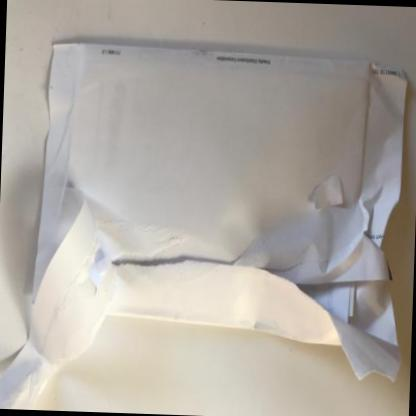Paper: (0, 42, 407, 406)
